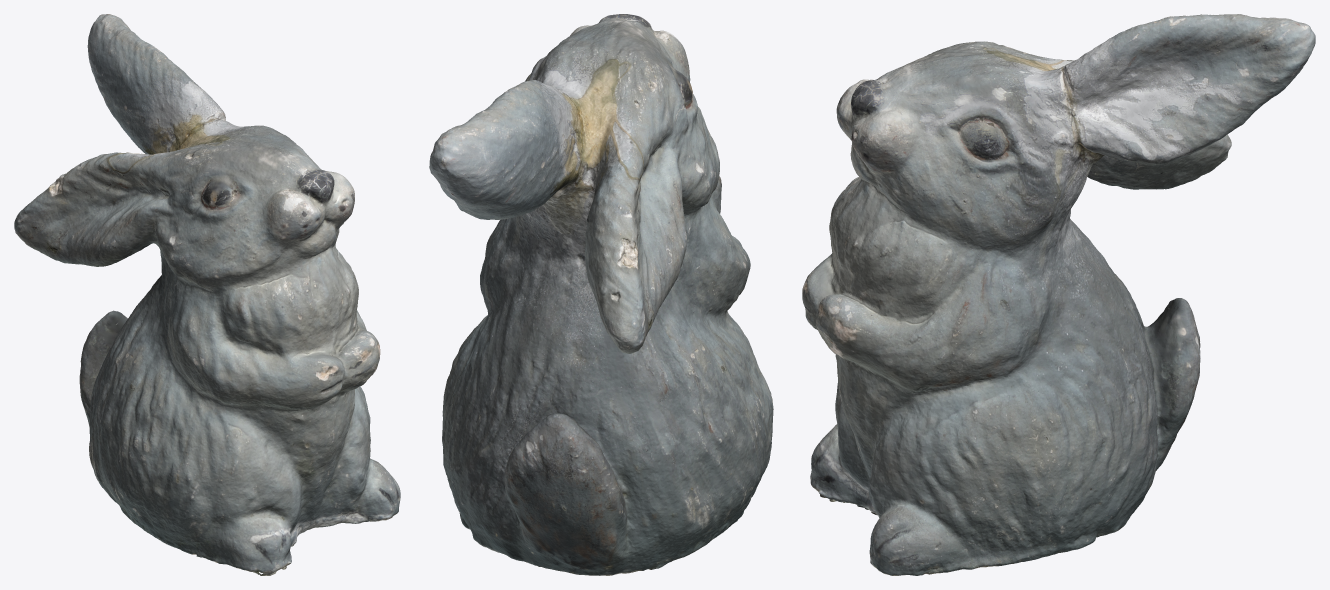
Rendered from greyrabbitoculus.glb.
3 renders of one model, left to right at view 1: azimuth 30°, elevation 25°; view 2: azimuth 150°, elevation 25°; view 3: azimuth 270°, elevation 25°, orthographic. The views are drawn at different scales.
Visible parts, largest first — view 1: Mesh_0; view 2: Mesh_0; view 3: Mesh_0.
Part boxes in pixels (x1=…): Mesh_0: x1=14, y1=14, x2=400, y2=575; Mesh_0: x1=429, y1=14, x2=773, y2=575; Mesh_0: x1=802, y1=14, x2=1315, y2=575.
Bounding box in the file's own units: 1.17 × 1.82 × 1.73.
2 materials, 2 textured.
